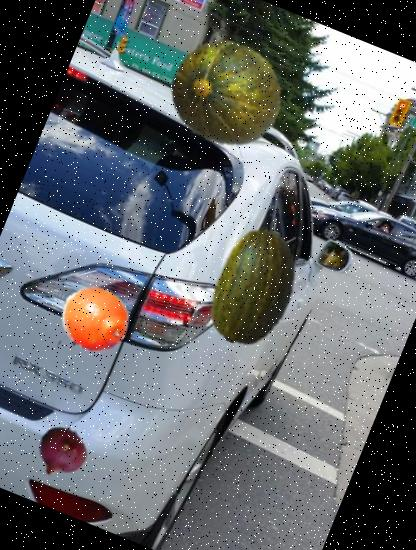Melon: (177, 209, 333, 366), (147, 15, 302, 170)
Onion: (23, 412, 100, 489)
Tangelo: (48, 275, 139, 366)
